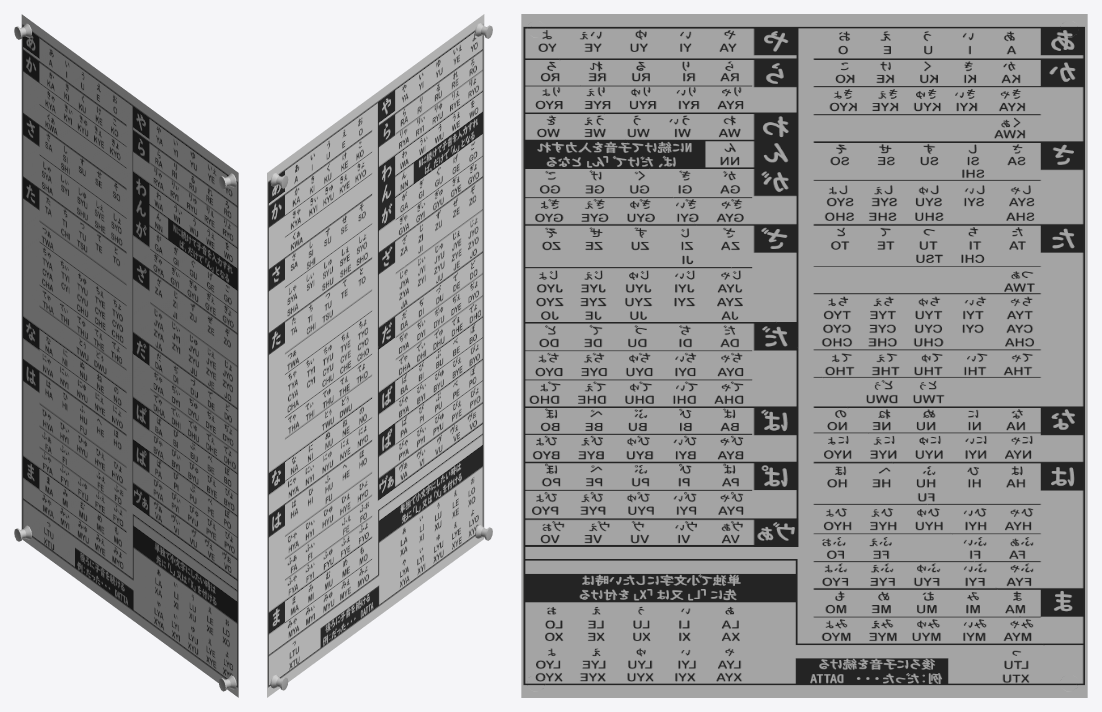
File: SM_Poster_01.fbx
3 views of the same model, side by side, from view 1: azimuth 30°, elevation 25°; view 2: azimuth 150°, elevation 25°; view 3: azimuth 270°, elevation 25° (orthographic). The views are drawn at different scales.
Parts seen in each view (by area): view 1: SM_Poster_01_LOD0; view 2: SM_Poster_01_LOD0; view 3: SM_Poster_01_LOD0.
Part boxes in pixels (x1,y1,x2,y2): SM_Poster_01_LOD0: (14, 14, 238, 697); SM_Poster_01_LOD0: (267, 14, 492, 697); SM_Poster_01_LOD0: (521, 14, 1087, 697).
Bounding box in the file's own units: 0.942 × 30 × 40.
